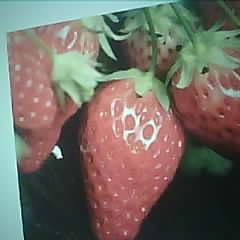straw-ripe: (80, 74, 186, 240)
